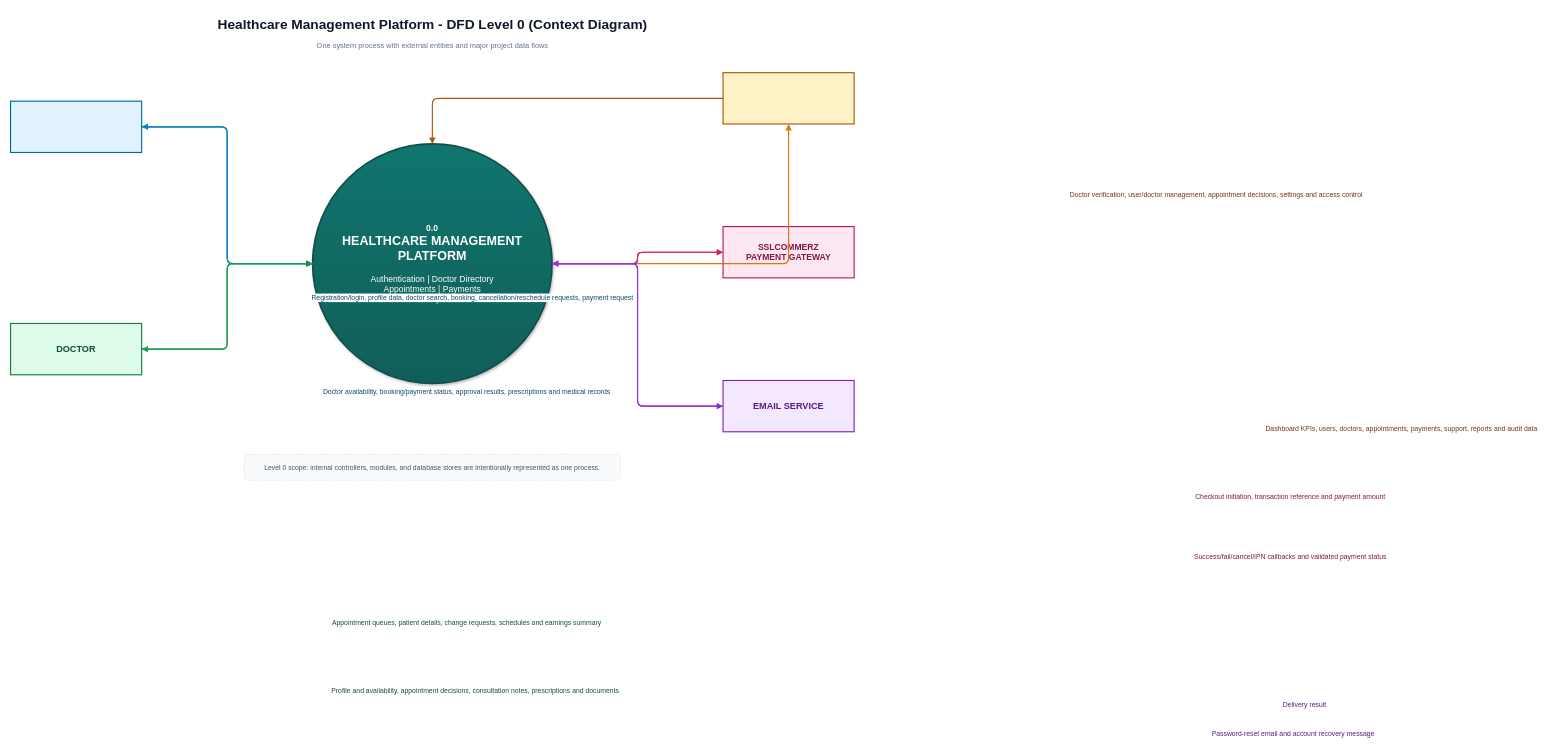
Some shapes in this 1547 by 747 pixel diagram are drawn without their labels. The shapes that lost their labels are listed below. From the top down, each one's centre as x and y in pixels, then its label:
the point at 788,98: ADMIN
the point at 76,126: PATIENT / VISITOR
